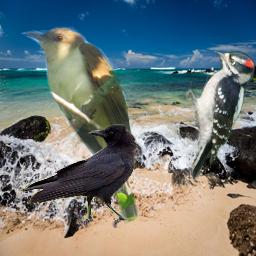Crow: (18, 124, 138, 228)
Cuckoo: (18, 25, 143, 230)
Woodpecker: (186, 47, 256, 183)
